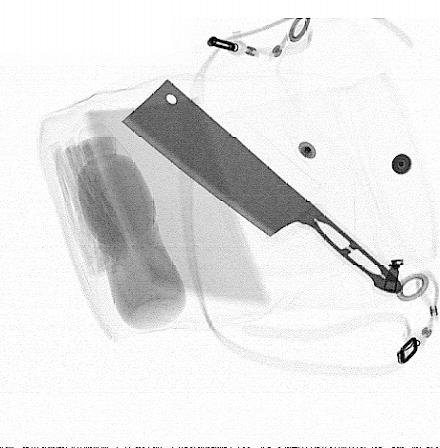Knife: (119, 78, 405, 296)
